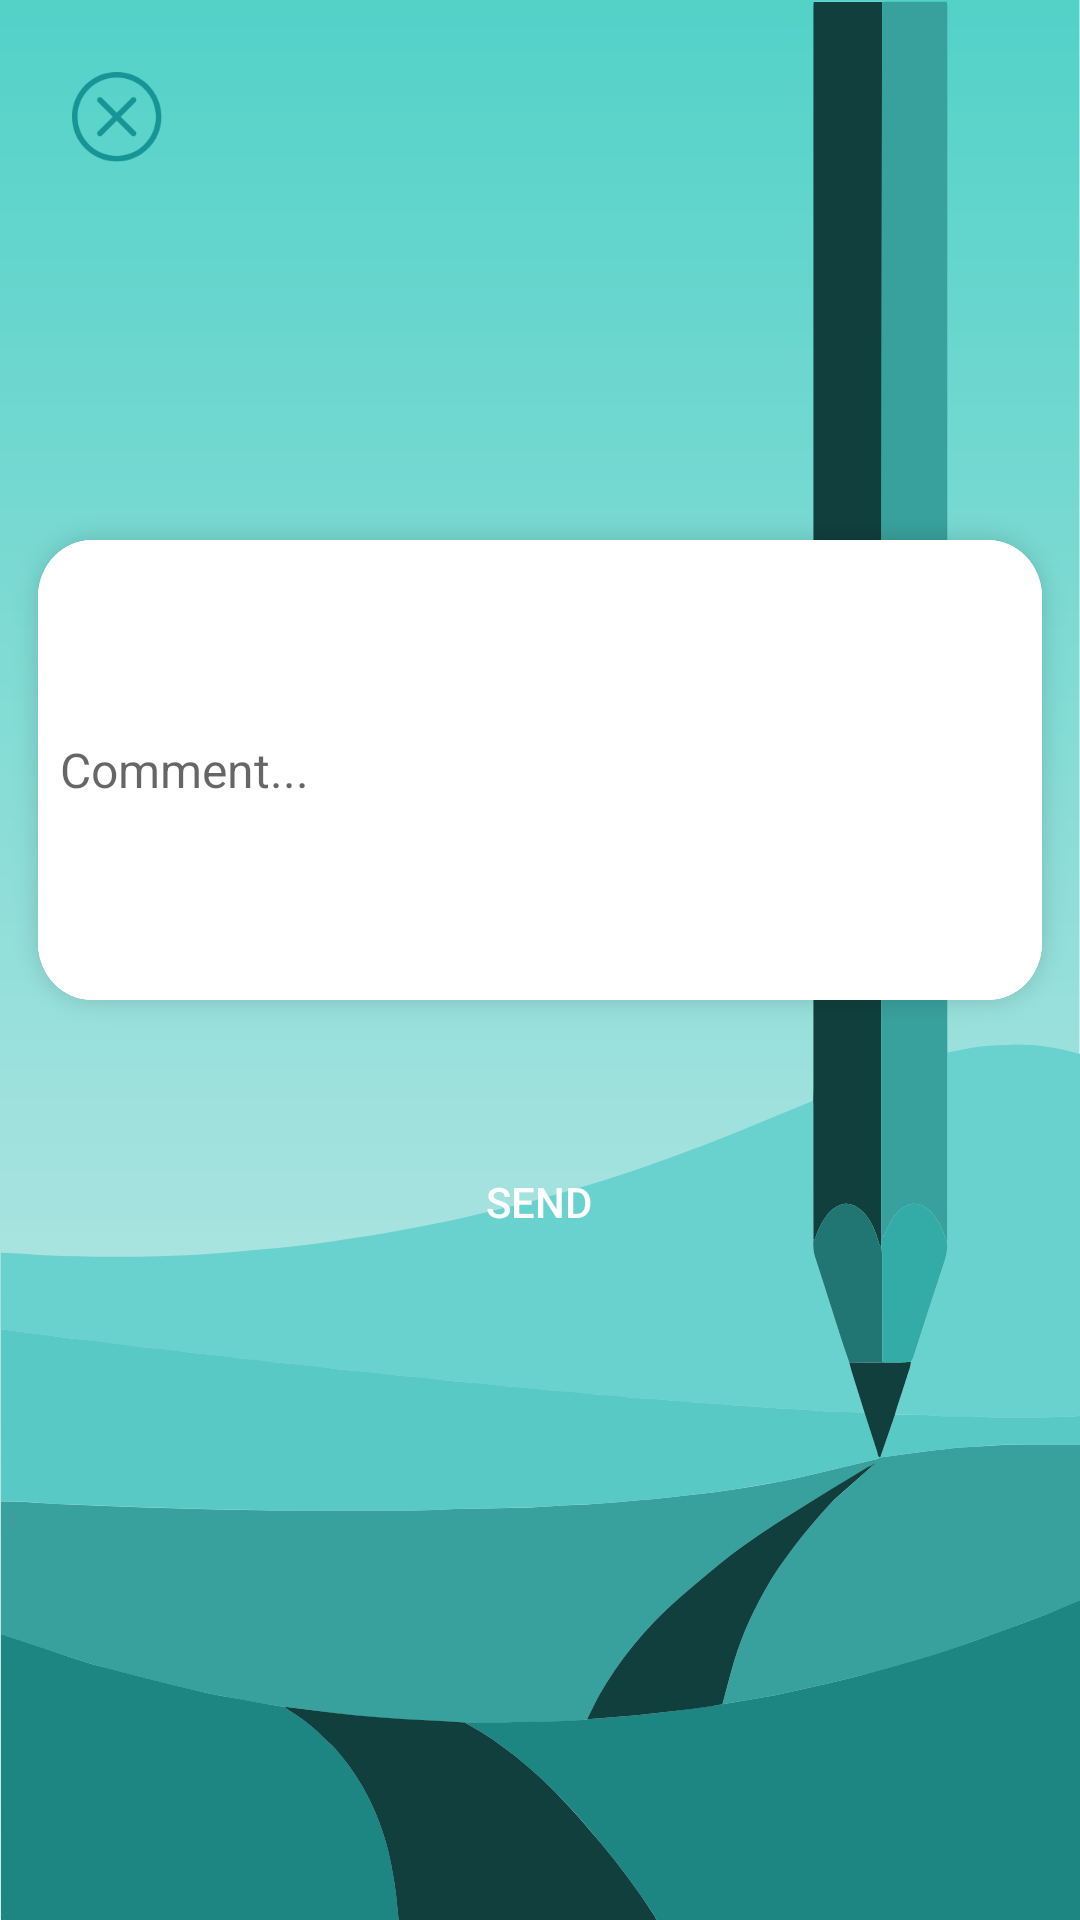

Icon click points for this 1080 × 1920 phone screenshot, format point (x, y):
close: point (116, 116)
